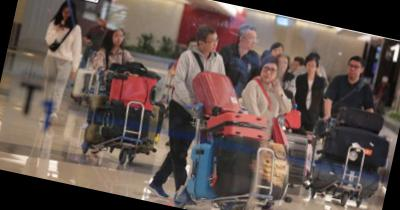without_mask: (258, 63, 280, 84), (243, 32, 259, 51), (346, 61, 362, 79), (205, 34, 220, 53), (112, 30, 125, 45), (276, 57, 289, 72), (61, 8, 73, 21), (304, 61, 317, 73), (271, 46, 283, 58), (291, 61, 302, 72)
